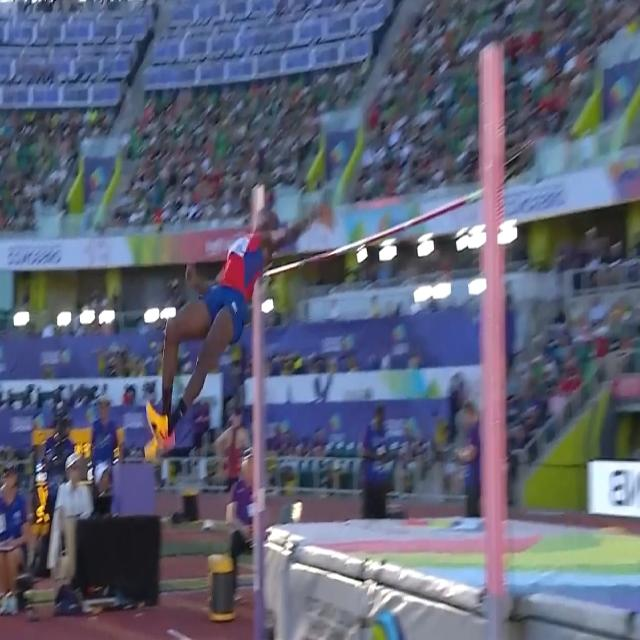jump: (145, 185, 332, 463)
